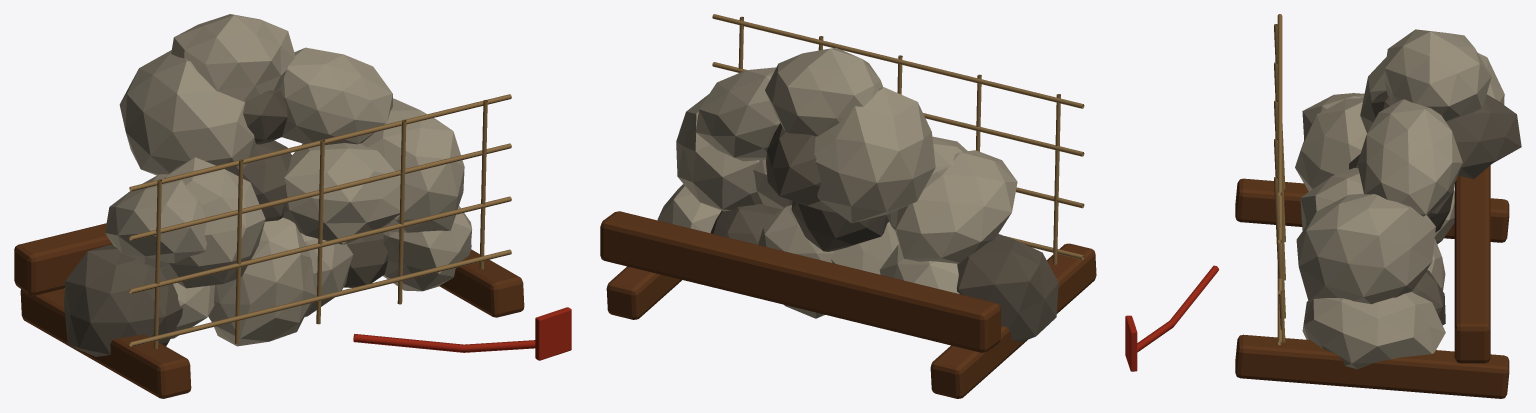
The model's file is triggerable_rock_pile_LOD0.glb.
The picture shows the model from 3 angles, left to right: view 1: azimuth 30°, elevation 25°; view 2: azimuth 150°, elevation 25°; view 3: azimuth 270°, elevation 25°; orthographic projection. The views are drawn at different scales.
Parts seen in each view (by area): view 1: RockPileHeldStone.011, RockPileHeldStone, RockPileHeldStone.009, RockPileHeldStone.013, RockPileHeldStone.002, RockPileHeldStone.014, RockPileHeldStone.010, RockPileHeldStone.007, RockPileHeldStone.006, RockPileCradleRail, RockPileHeldStone.005, RockPileRearBeam (+17 smaller); view 2: RockPileRearBeam, RockPileHeldStone.011, RockPileHeldStone.006, RockPileHeldStone.014, RockPileHeldStone, RockPileHeldStone.013, RockPileCradleRail, RockPileHeldStone.010, RockPileHeldStone.012, RockPileHeldStone.008, RockPileCradleRail.001, RockPileSafetyNetHorizontal.003 (+9 smaller); view 3: RockPileHeldStone.010, RockPileCradleRail.001, RockPileHeldStone.013, RockPileHeldStone.005, RockPileHeldStone.014, RockPileRearBeam, RockPileHeldStone.007, RockPileHeldStone.012, RockPileCradleRail, RockPileHeldStone.009, RockPileHeldStone.011, RockPileSafetyNetHorizontal.003 (+8 smaller).
Part boxes in pixels (<box>): RockPileHeldStone.011: <box>119,50,256,175</box>; RockPileHeldStone: <box>64,244,182,356</box>; RockPileHeldStone.009: <box>283,143,400,244</box>; RockPileHeldStone.013: <box>279,47,392,144</box>; RockPileHeldStone.002: <box>208,217,315,346</box>; RockPileHeldStone.014: <box>171,14,295,101</box>; RockPileHeldStone.010: <box>361,98,464,232</box>; RockPileHeldStone.007: <box>161,157,265,288</box>; RockPileHeldStone.006: <box>105,174,206,269</box>; RockPileCradleRail: <box>20,288,191,398</box>; RockPileHeldStone.005: <box>383,206,472,291</box>; RockPileRearBeam: <box>14,223,112,295</box>; RockPileRearBeam: <box>600,211,1000,352</box>; RockPileHeldStone.011: <box>814,87,935,223</box>; RockPileHeldStone.006: <box>896,150,1017,263</box>; RockPileHeldStone.014: <box>765,47,883,136</box>; RockPileHeldStone: <box>956,234,1058,342</box>; RockPileHeldStone.013: <box>695,67,779,161</box>; RockPileCradleRail: <box>930,243,1096,398</box>; RockPileHeldStone.010: <box>676,94,762,211</box>; RockPileHeldStone.012: <box>766,123,820,205</box>; RockPileHeldStone.008: <box>791,201,888,251</box>; RockPileCradleRail.001: <box>606,266,681,319</box>; RockPileSafetyNetHorizontal.003: <box>712,14,1084,108</box>; RockPileHeldStone.010: <box>1296,193,1435,304</box>; RockPileCradleRail.001: <box>1235,334,1509,398</box>; RockPileHeldStone.013: <box>1357,99,1462,216</box>; RockPileHeldStone.005: <box>1302,291,1445,369</box>; RockPileHeldStone.014: <box>1385,29,1491,122</box>; RockPileRearBeam: <box>1454,165,1490,363</box>; RockPileHeldStone.007: <box>1295,98,1366,191</box>; RockPileHeldStone.012: <box>1371,91,1521,179</box>; RockPileCradleRail: <box>1235,178,1509,242</box>; RockPileHeldStone.009: <box>1300,167,1363,230</box>; RockPileHeldStone.011: <box>1360,53,1504,133</box>; RockPileSafetyNetHorizontal.003: <box>1277,14,1282,195</box>.
Bounding box in the file's own units: 2.22 × 1.58 × 1.97.
